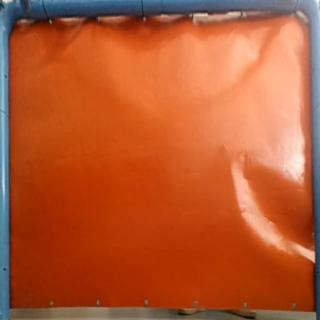Hit-hRxx: (218, 139, 233, 154)
